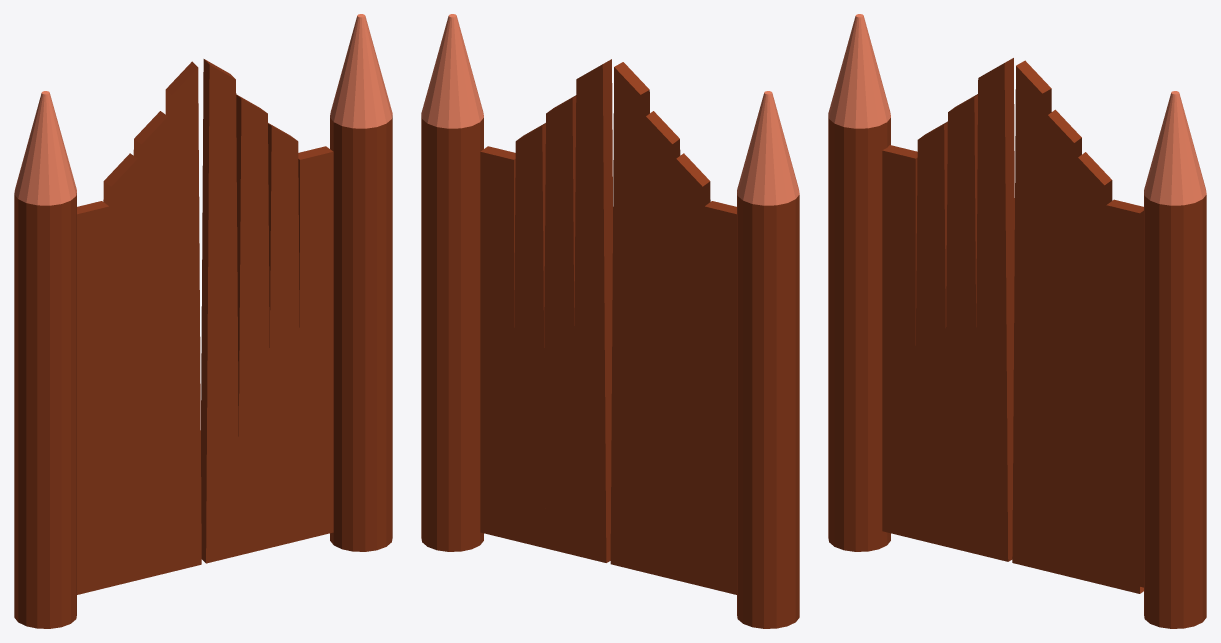
Rendered from Portão.fbx.
3 views of the same model, side by side, from view 1: azimuth 30°, elevation 25°; view 2: azimuth 150°, elevation 25°; view 3: azimuth 330°, elevation 25° (orthographic).
Visible parts, largest first — view 1: Palçada; view 2: Palçada; view 3: Palçada.
Part boxes in pixels (x1,y1,x2,y2): Palçada: (14, 14, 392, 628); Palçada: (421, 14, 799, 628); Palçada: (828, 14, 1206, 628).
Bounding box in the file's own units: 380 × 512 × 56.36.
